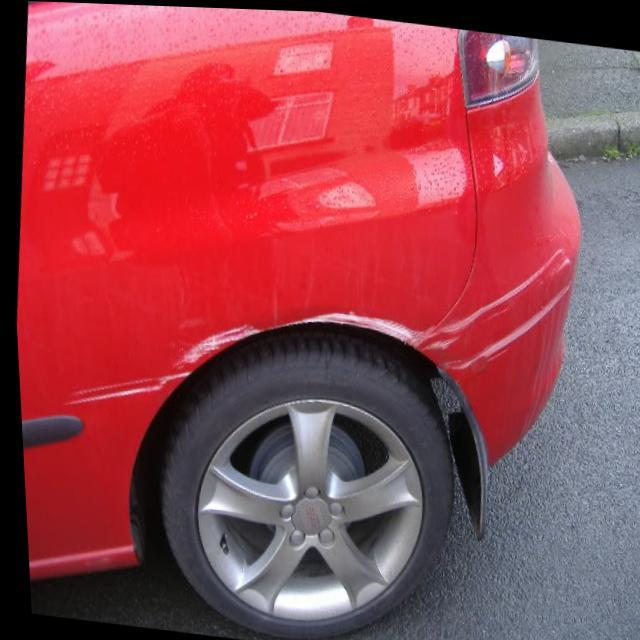Scratch: (68, 299, 415, 408)
